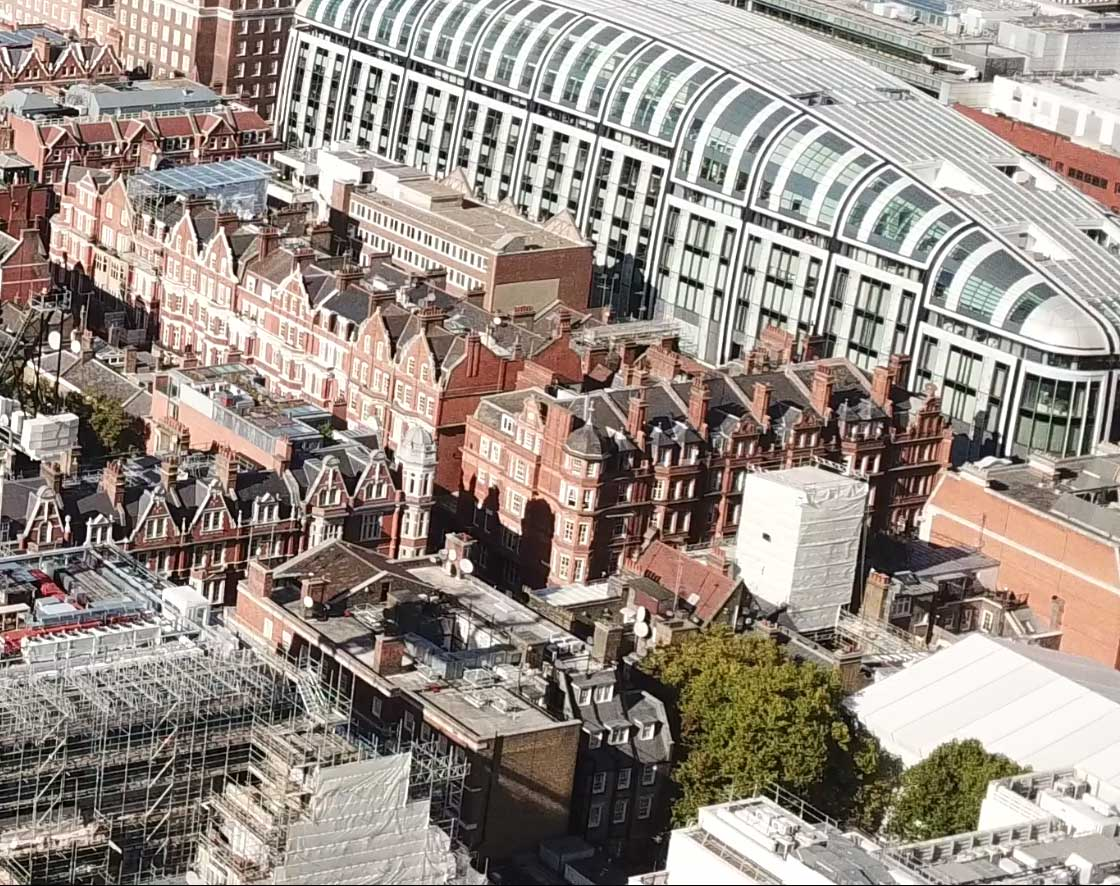building: (265, 5, 1120, 412), (457, 349, 965, 560)
tree: (639, 627, 859, 800)
